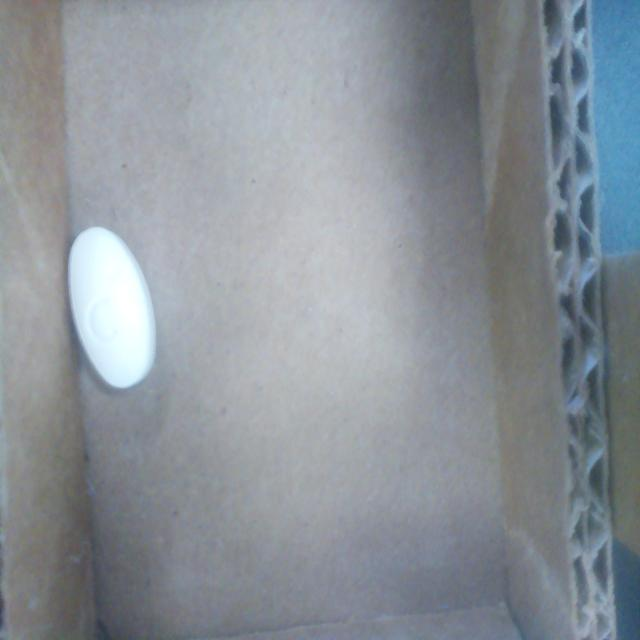pill: (68, 227, 158, 390)
